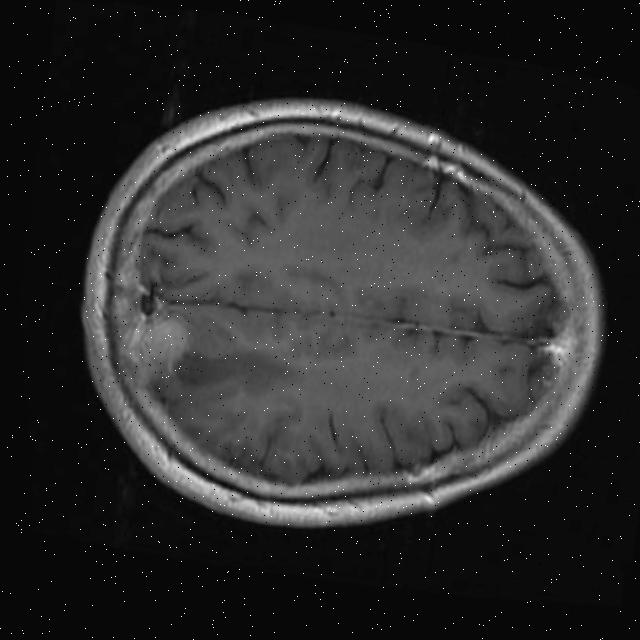Meningioma: (128, 305, 200, 396)
